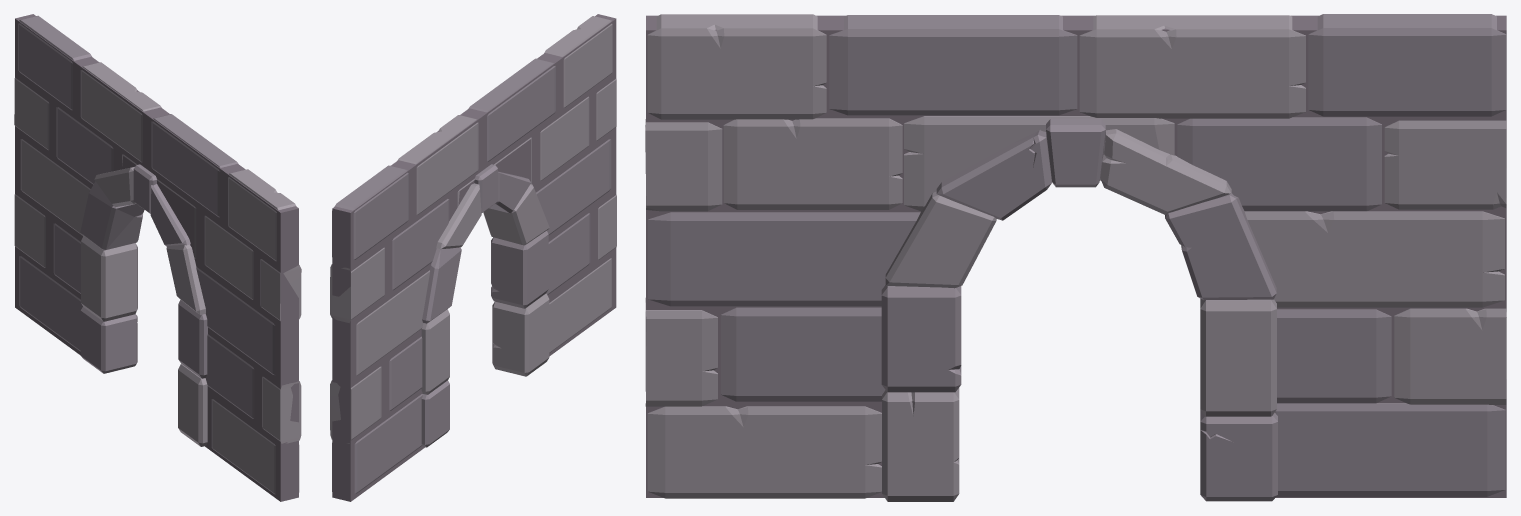
Rendered from wall with doorhol.fbx.
3 renders of one model, left to right at view 1: azimuth 30°, elevation 25°; view 2: azimuth 150°, elevation 25°; view 3: azimuth 270°, elevation 25°, orthographic. The views are drawn at different scales.
Parts seen in each view (by area): view 1: polySurface199; view 2: polySurface199; view 3: polySurface199.
Part boxes in pixels (x1,y1,x2,y2): polySurface199: (14,14,301,501); polySurface199: (330,14,616,501); polySurface199: (645,14,1506,501).
Bounding box in the file's own units: 0.4243 × 3.02 × 5.01.
